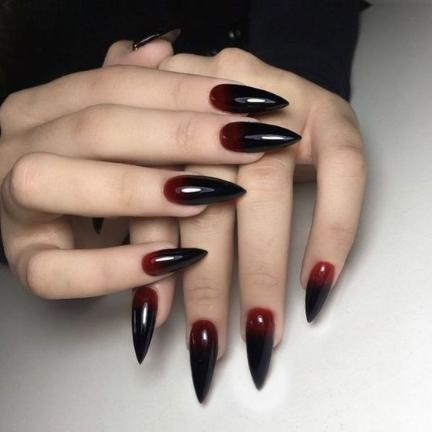Nail: (163, 174, 248, 205), (219, 121, 303, 151), (245, 306, 274, 391), (189, 319, 218, 404), (209, 83, 291, 113), (131, 285, 157, 367), (141, 247, 210, 276), (305, 260, 335, 323)
